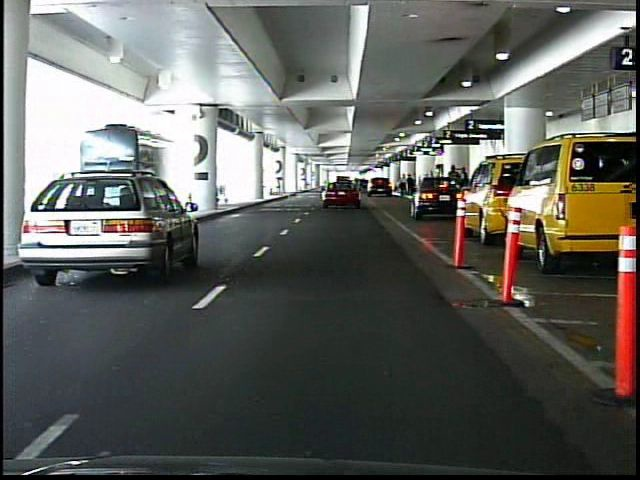person: (446, 162, 464, 213), (458, 166, 473, 211), (399, 173, 408, 196), (406, 173, 414, 196)
